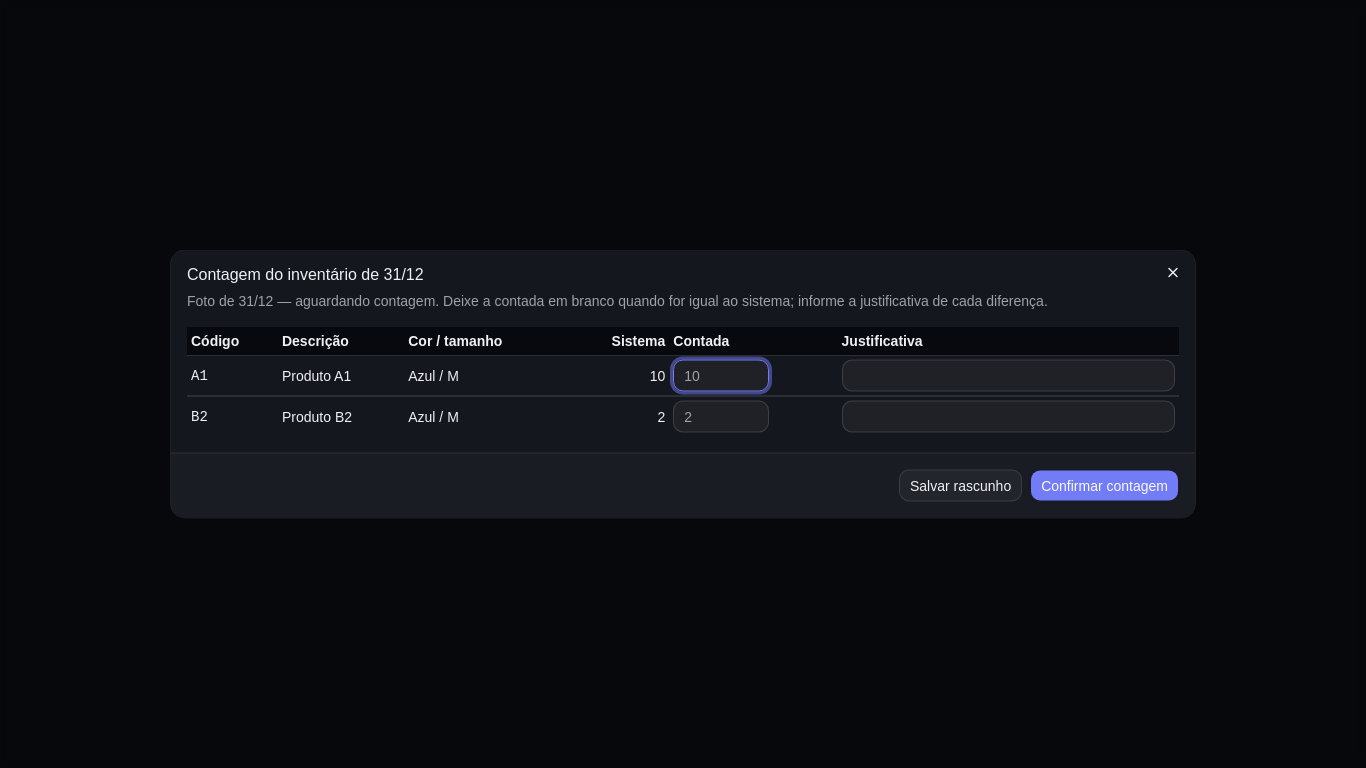
Test case: DialogContagemInventario › justificativa obrigatória quando contada difere do sistema
The width and height of the screenshot is (1366, 768).
Expected: the button "Confirmar contagem" is enabled, [1030,470,1179,502]
Type "7" into the field with placeholder "10" at (721,376), box [673,360,769,392]
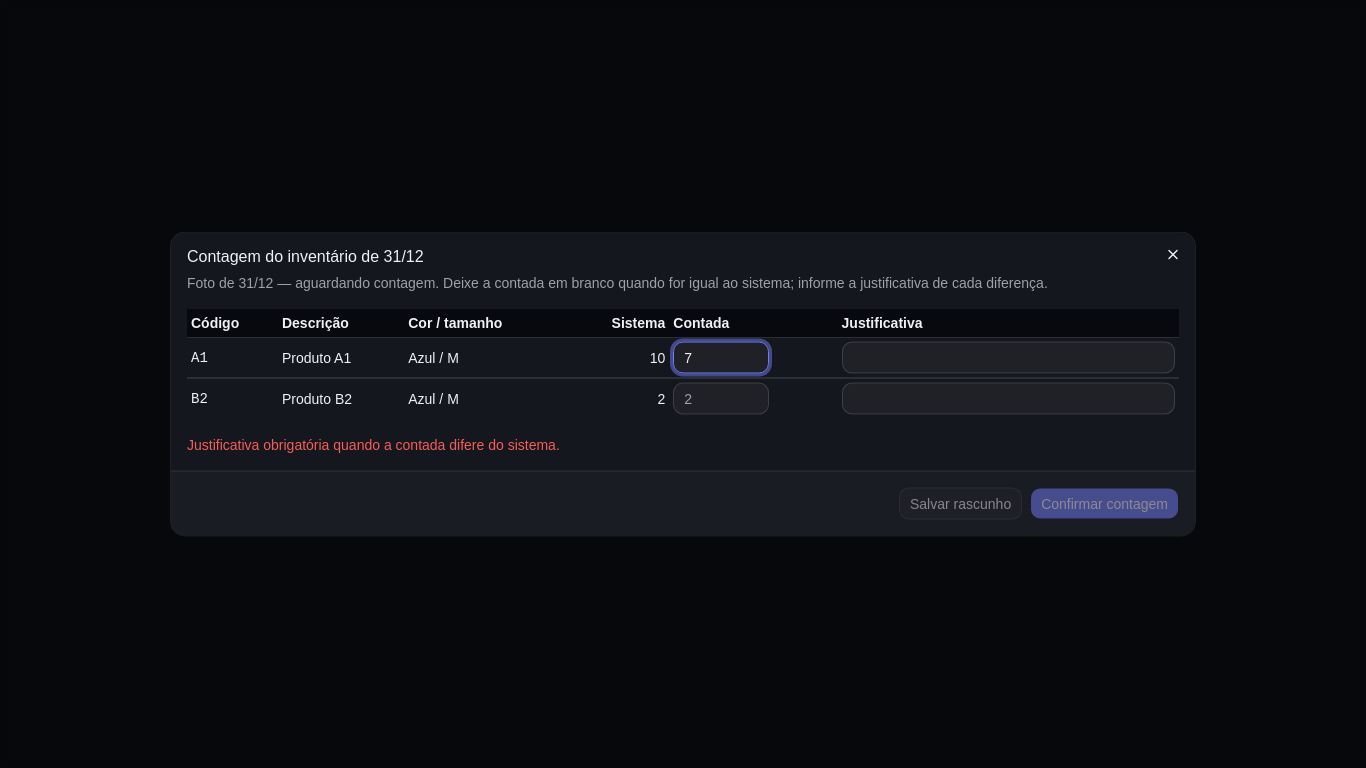
Now the button "Confirmar contagem" is disabled, box [1030,488,1179,520]
Type "extravio" into the field named "Justificativa A1" at (1008,358), box [842,342,1175,374]
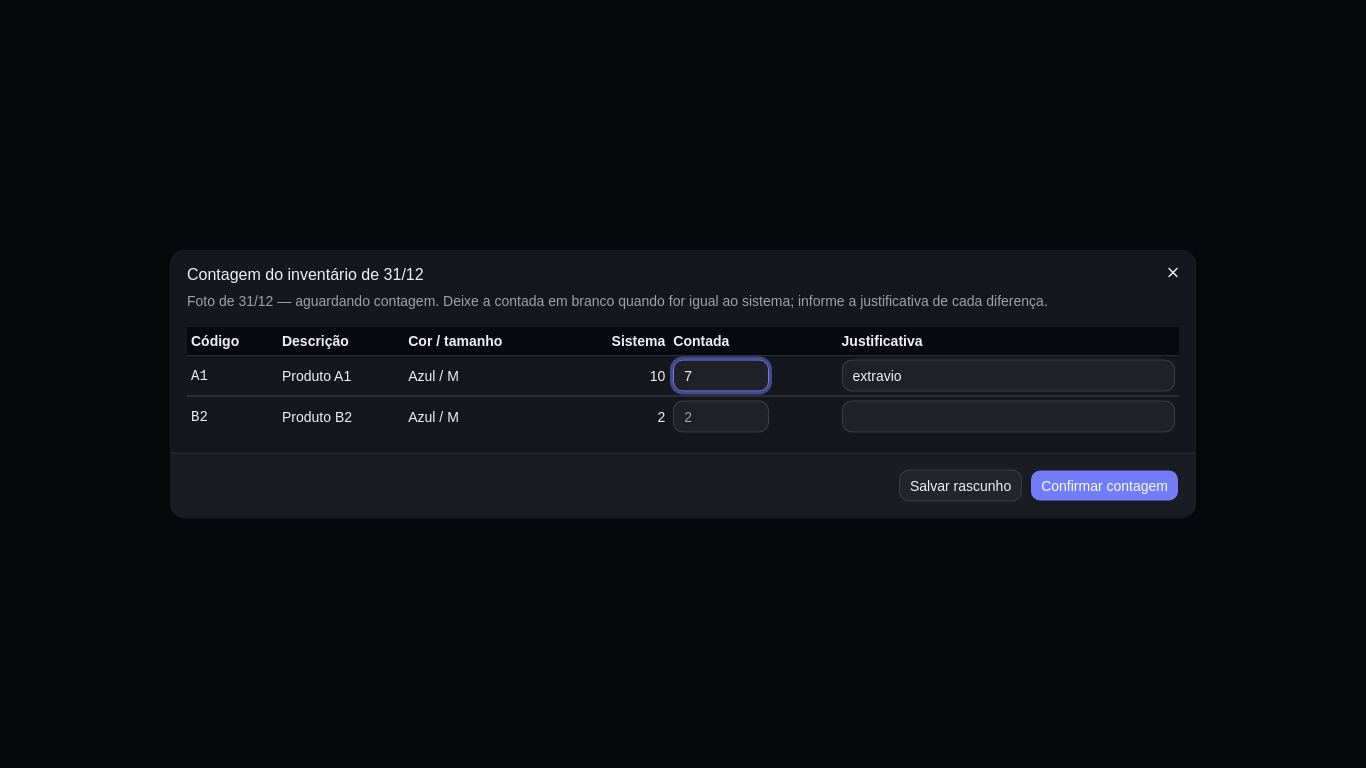
Now the button "Confirmar contagem" is enabled, box [1030,470,1179,502]
